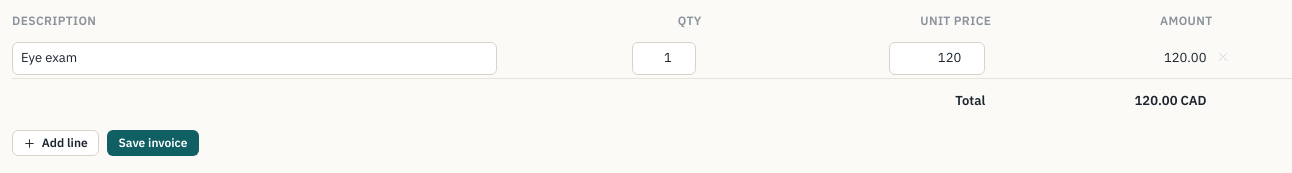
InvoiceEditor › surfaces a rejection from the server
Click the button "Save invoice": click(153, 143) [107,130,199,156]
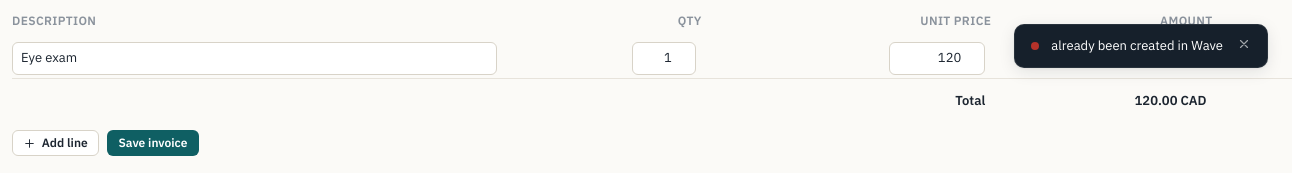
Check: the text "already been created in Wave" is shown, box [1051,37,1223,54]
